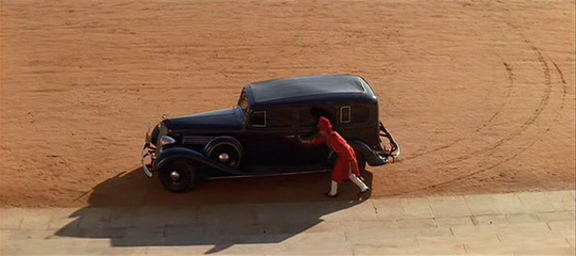els: (1, 1, 576, 256)
face: (318, 127, 326, 137)
person: (299, 116, 370, 197)
